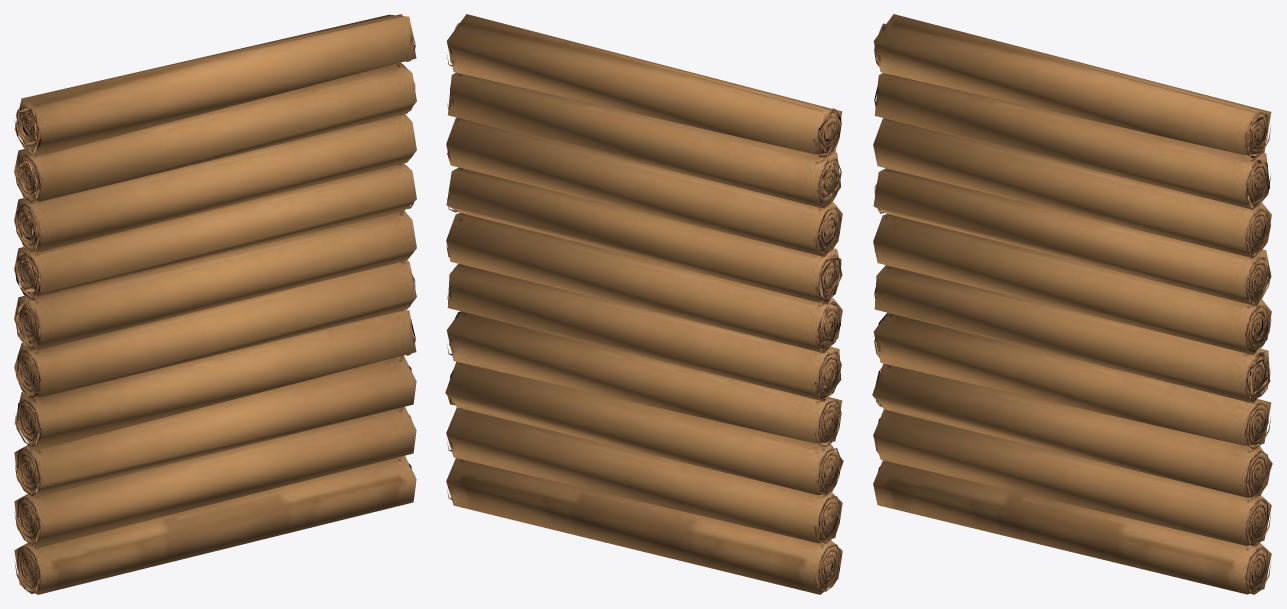
File: wall_logs.glb
3 renders of one model, left to right at view 1: azimuth 30°, elevation 25°; view 2: azimuth 150°, elevation 25°; view 3: azimuth 330°, elevation 25°, orthographic.
Visible parts, largest first — view 1: prop_wall_logs_felt; view 2: prop_wall_logs_felt; view 3: prop_wall_logs_felt.
Boxes of the visible parts, left/top/right/bottom form: prop_wall_logs_felt: left=14, top=14, right=416, bottom=594; prop_wall_logs_felt: left=445, top=14, right=843, bottom=594; prop_wall_logs_felt: left=872, top=14, right=1272, bottom=594.
Bounding box in the file's own units: 4.03 × 5 × 0.5574.
1 material, 1 textured.
